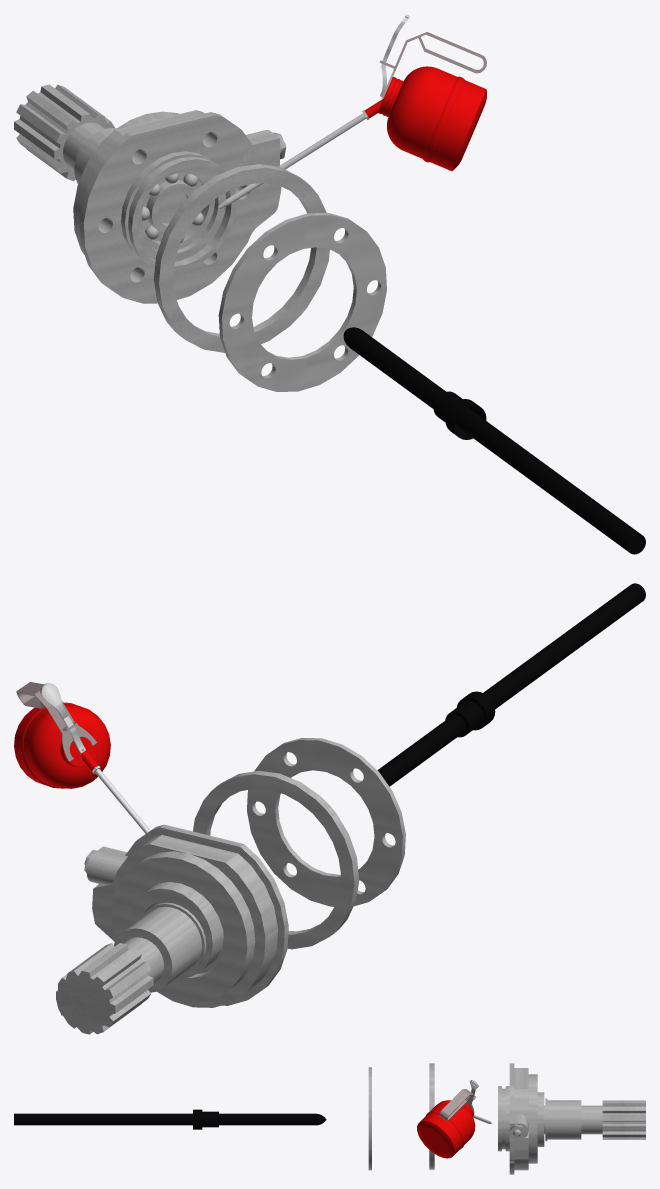
3 views of the same model, one above another, from view 1: azimuth 30°, elevation 25°; view 2: azimuth 150°, elevation 25°; view 3: azimuth 270°, elevation 25° (orthographic). The views are drawn at different scales.
Visible parts, largest first — view 1: 1, 3, Oiler, 4, 2; view 2: 1, 3, Oiler, 4, 2; view 3: 1, 4, Oiler, 3, 2.
Part boxes in pixels (<box>): 1: <box>14,84,286,303</box>; 3: <box>218,213,386,391</box>; Oiler: <box>218,14,486,208</box>; 4: <box>343,327,645,554</box>; 2: <box>153,164,329,352</box>; 1: <box>56,824,288,1034</box>; 3: <box>247,738,405,906</box>; Oiler: <box>14,682,150,833</box>; 4: <box>377,583,645,786</box>; 2: <box>193,770,359,949</box>; 1: <box>498,1063,645,1174</box>; 4: <box>14,1109,326,1129</box>; Oiler: <box>417,1080,491,1158</box>; 3: <box>368,1067,371,1170</box>; 2: <box>429,1063,434,1169</box>.
Size of the model in its own units: 342 by 248 by 1007.
Materials: 8 (4 with a texture image).
